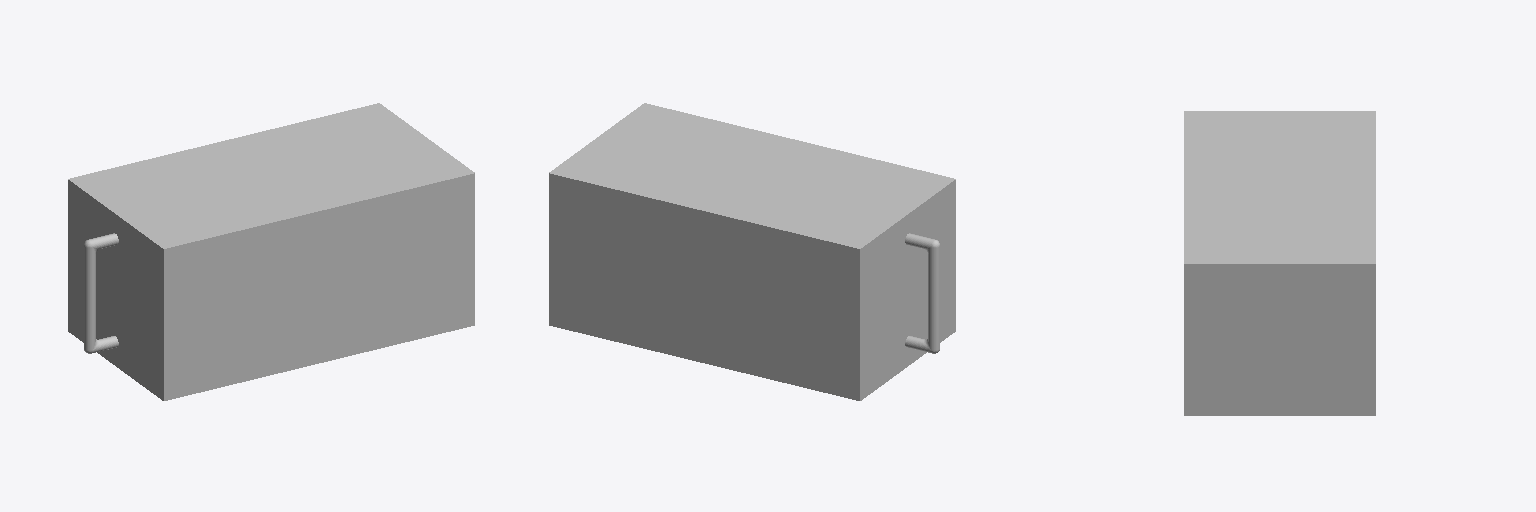
Rendered from blackbox.obj.
3 renders of one model, left to right at view 1: azimuth 30°, elevation 25°; view 2: azimuth 150°, elevation 25°; view 3: azimuth 270°, elevation 25°, orthographic.
Parts seen in each view (by area): view 1: mesh11.001, mesh8.001, mesh7.001, mesh3.001; view 2: mesh12.001, mesh8.001, mesh7.001, mesh3.001; view 3: mesh8.001, mesh10.001.
Part boxes in pixels (x1,y1,x2,y2): mesh11.001: (164,173,474,400); mesh8.001: (68,103,474,248); mesh7.001: (68,180,163,400); mesh3.001: (84,247,95,349); mesh12.001: (549,173,859,400); mesh8.001: (549,103,955,248); mesh7.001: (860,180,955,400); mesh3.001: (928,247,939,349); mesh8.001: (1184,111,1375,263); mesh10.001: (1184,264,1375,415).
Bounding box in the file's own units: 0.33 × 0.14 × 0.16.